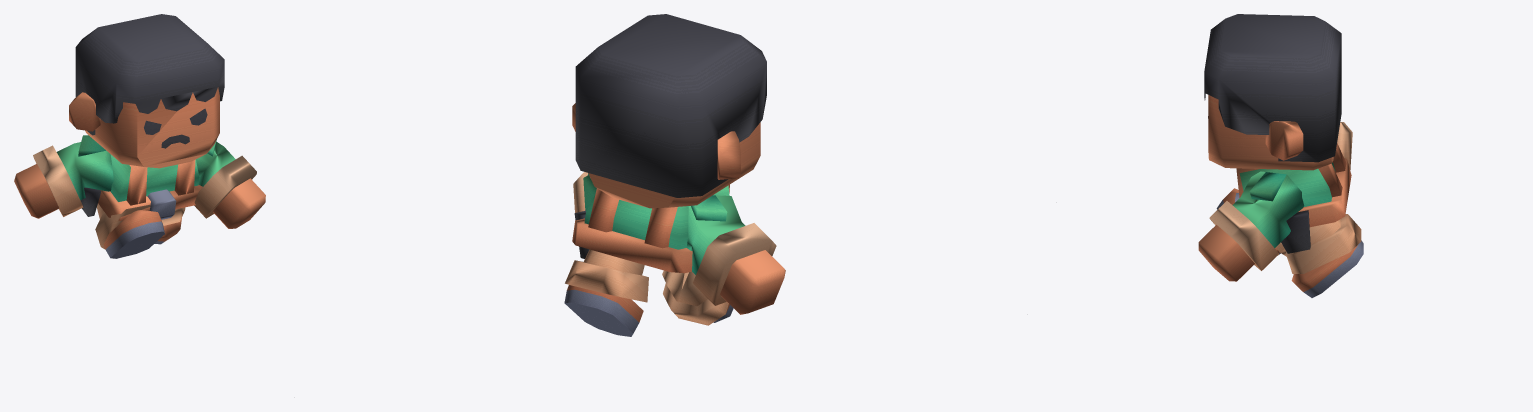
The model's file is crowdA_sprint_7.glb.
The picture shows the model from 3 angles, left to right: view 1: azimuth 30°, elevation 25°; view 2: azimuth 150°, elevation 25°; view 3: azimuth 270°, elevation 25°; orthographic projection. The views are drawn at different scales.
Parts seen in each view (by area): view 1: crowdA-sprint-7; view 2: crowdA-sprint-7; view 3: crowdA-sprint-7.
Part boxes in pixels (box(x1,y1,x2,y2)): crowdA-sprint-7: box(14, 14, 265, 258); crowdA-sprint-7: box(564, 14, 785, 336); crowdA-sprint-7: box(1198, 14, 1363, 297).
Bounding box in the file's own units: 1.2 × 0.7537 × 1.2.
Materials: 1 (1 with a texture image).
